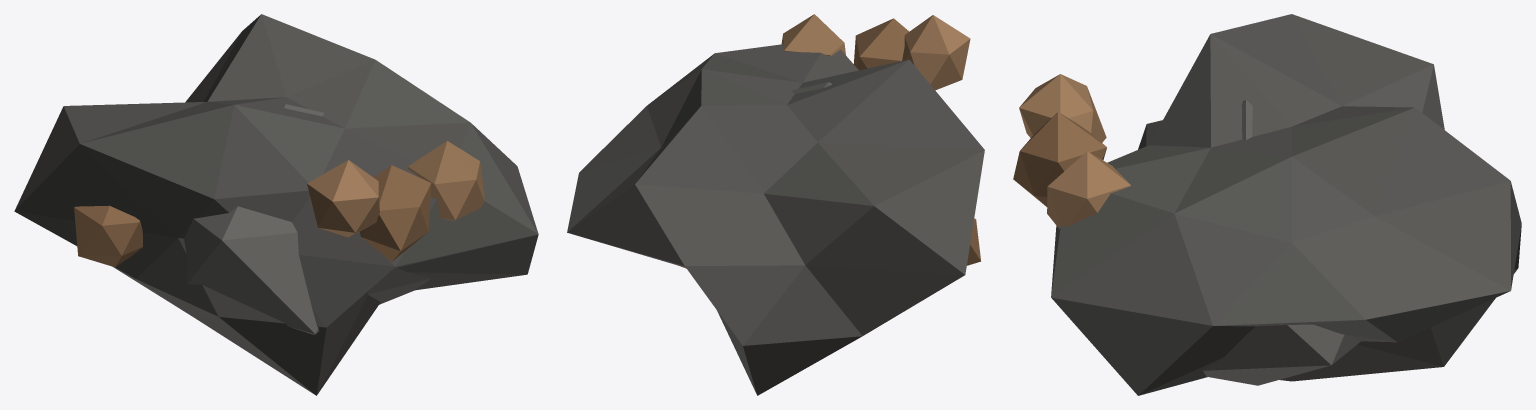
Rendered from copper_rock.glb.
3 renders of one model, left to right at view 1: azimuth 30°, elevation 25°; view 2: azimuth 150°, elevation 25°; view 3: azimuth 270°, elevation 25°, orthographic. The views are drawn at different scales.
Visible parts, largest first — view 1: copper_rock; view 2: copper_rock; view 3: copper_rock.
Part boxes in pixels (x1,y1,x2,y2): copper_rock: (14,14,538,395); copper_rock: (567,14,984,395); copper_rock: (1013,14,1521,395).
Size of the model in its own units: 1.49 by 0.9578 by 1.44.
Materials: 1 (1 with a texture image).
